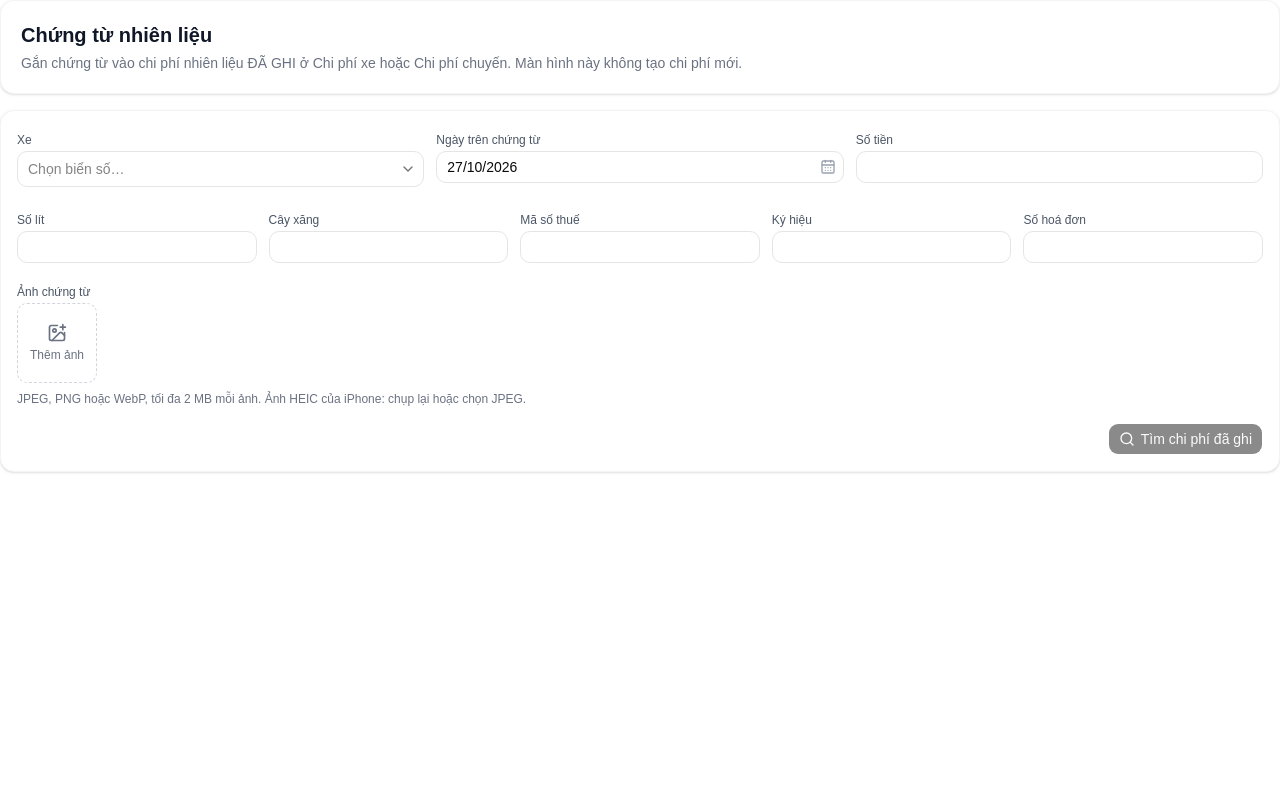
it: FuelReceiptPage › will not attach to a withdrawn cost, or to a fill whose own receipt says otherwise
Press the mouse on the dropdown labelled "Xe" at (221, 169), box left=17, top=151, right=424, bottom=187
Press the mouse on the dropdown labelled "Xe" at (221, 169), box left=17, top=151, right=424, bottom=187
Type "51D" into the dropdown labelled "Xe".
click(221, 169); type("51D")  # box left=17, top=151, right=424, bottom=187
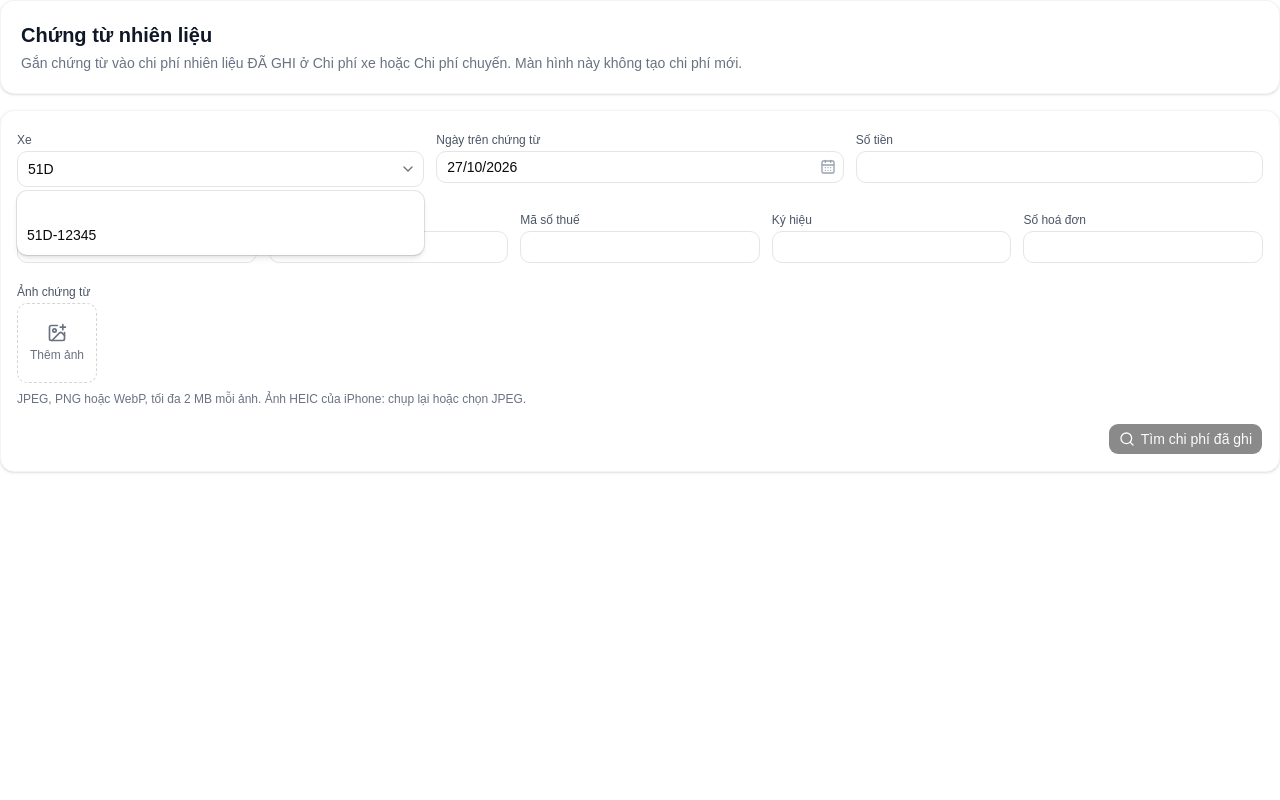
Click the option "51D-12345".
click(62, 235)  # box left=27, top=227, right=96, bottom=243
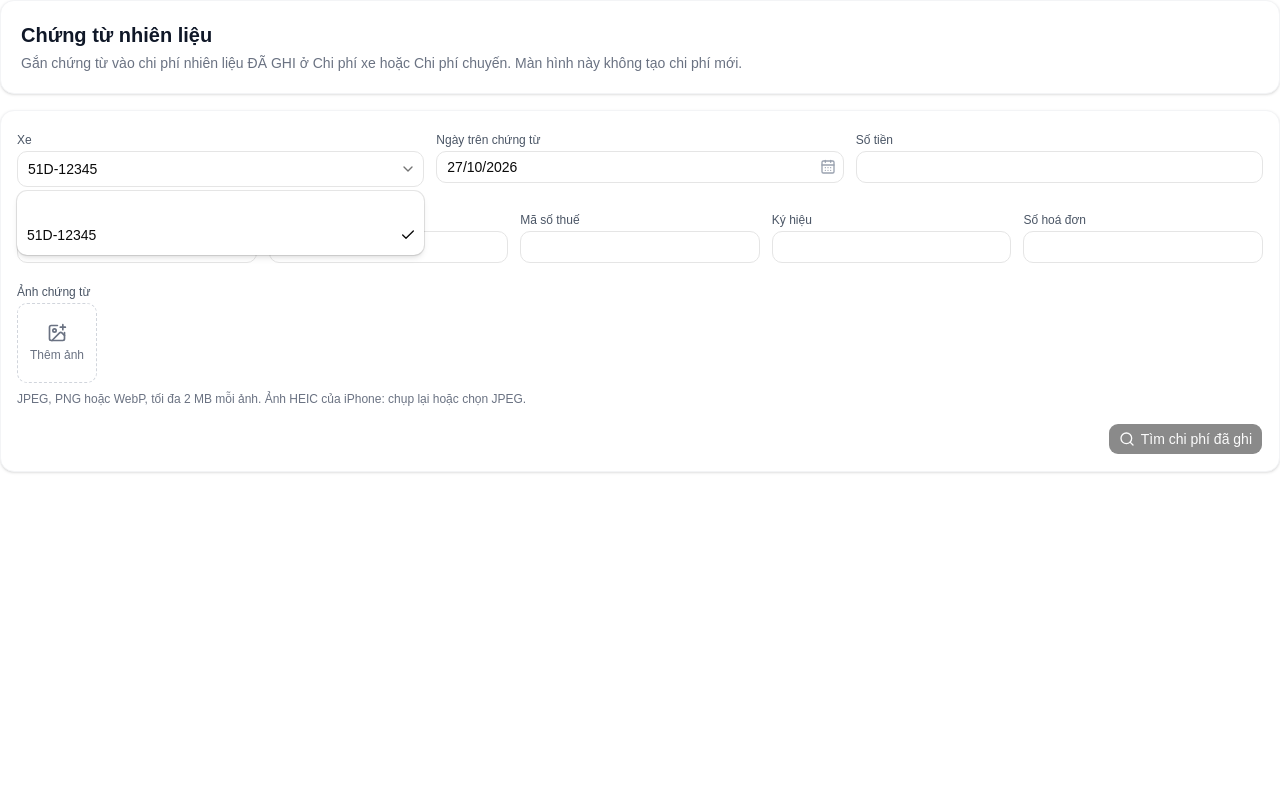
Type "772460" into the field labelled "Số tiền".
click(1059, 167); type("772460")  # box left=856, top=151, right=1263, bottom=183
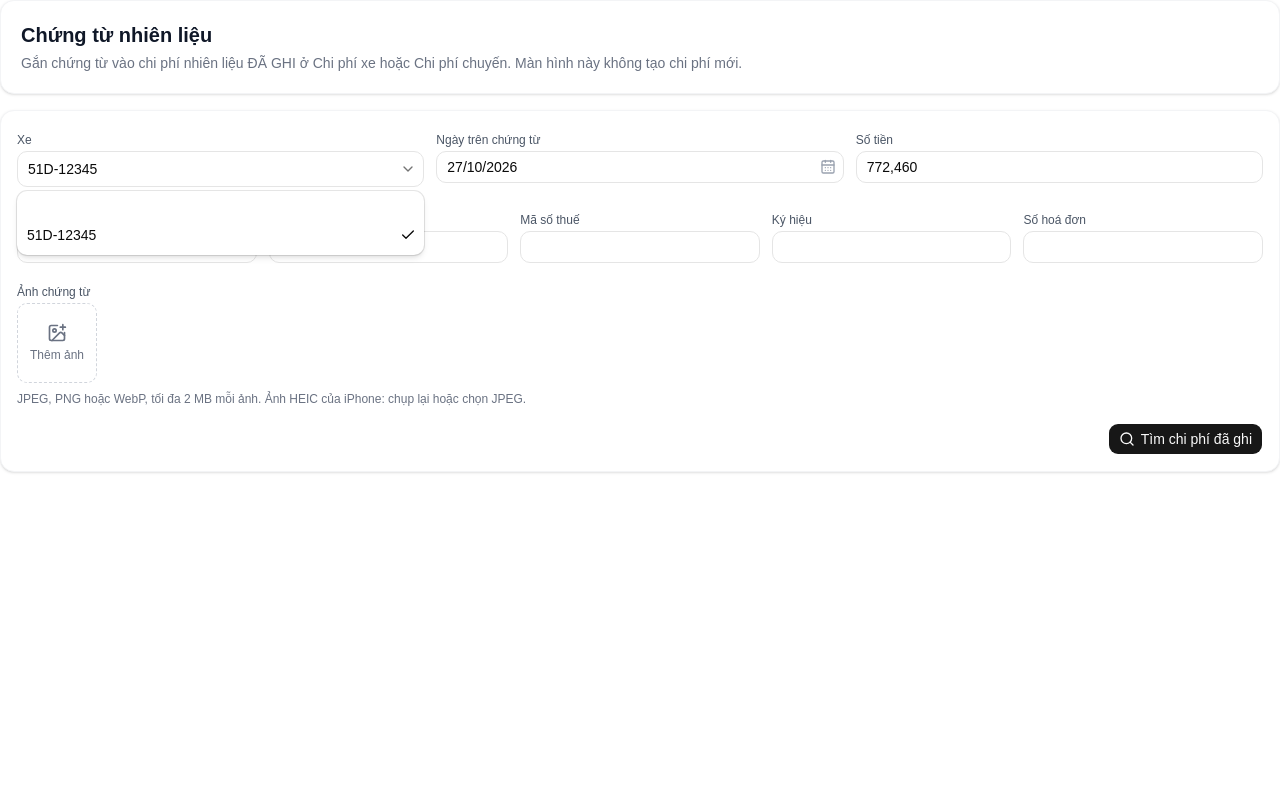
Type " 0001234 " into the field labelled "Số hoá đơn".
click(1143, 247); type(" 0001234 ")  # box left=1023, top=231, right=1263, bottom=263
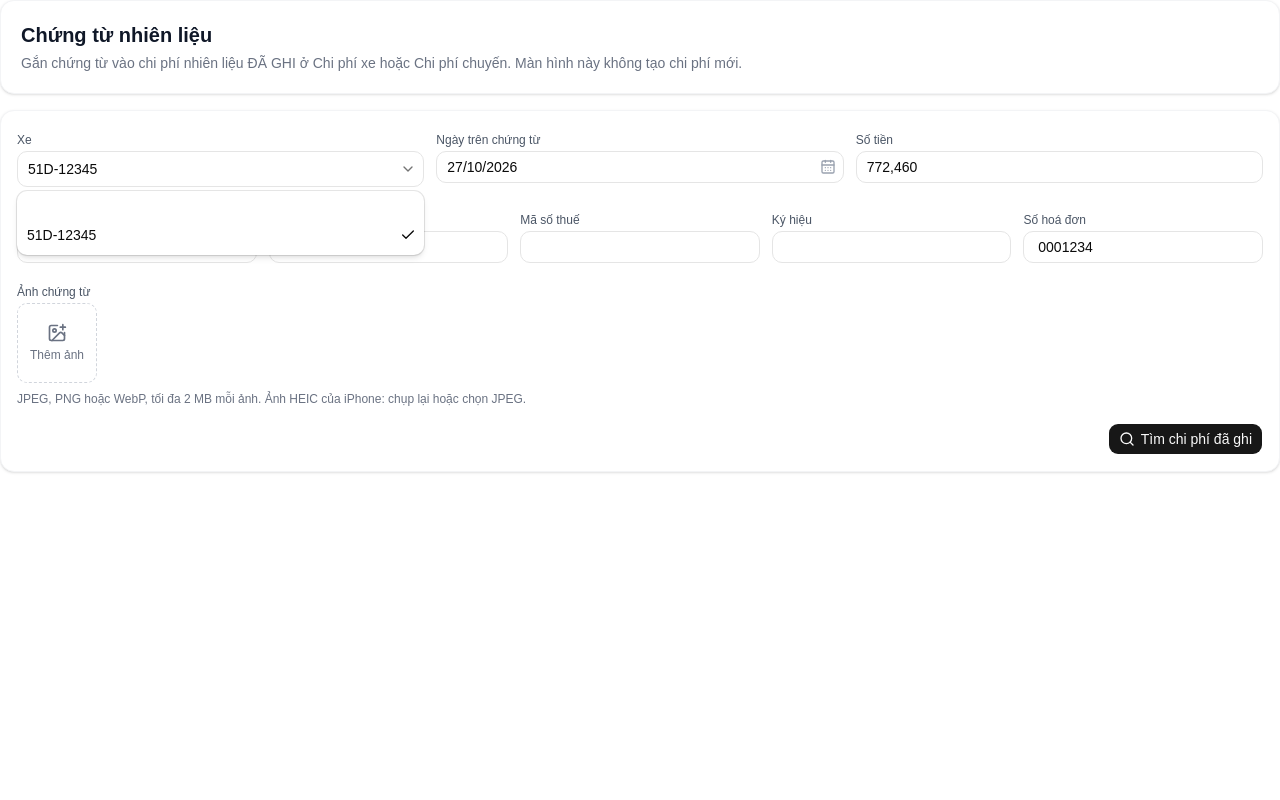
Click the button "Tìm chi phí đã ghi".
click(1185, 439)  # box left=1108, top=423, right=1263, bottom=455
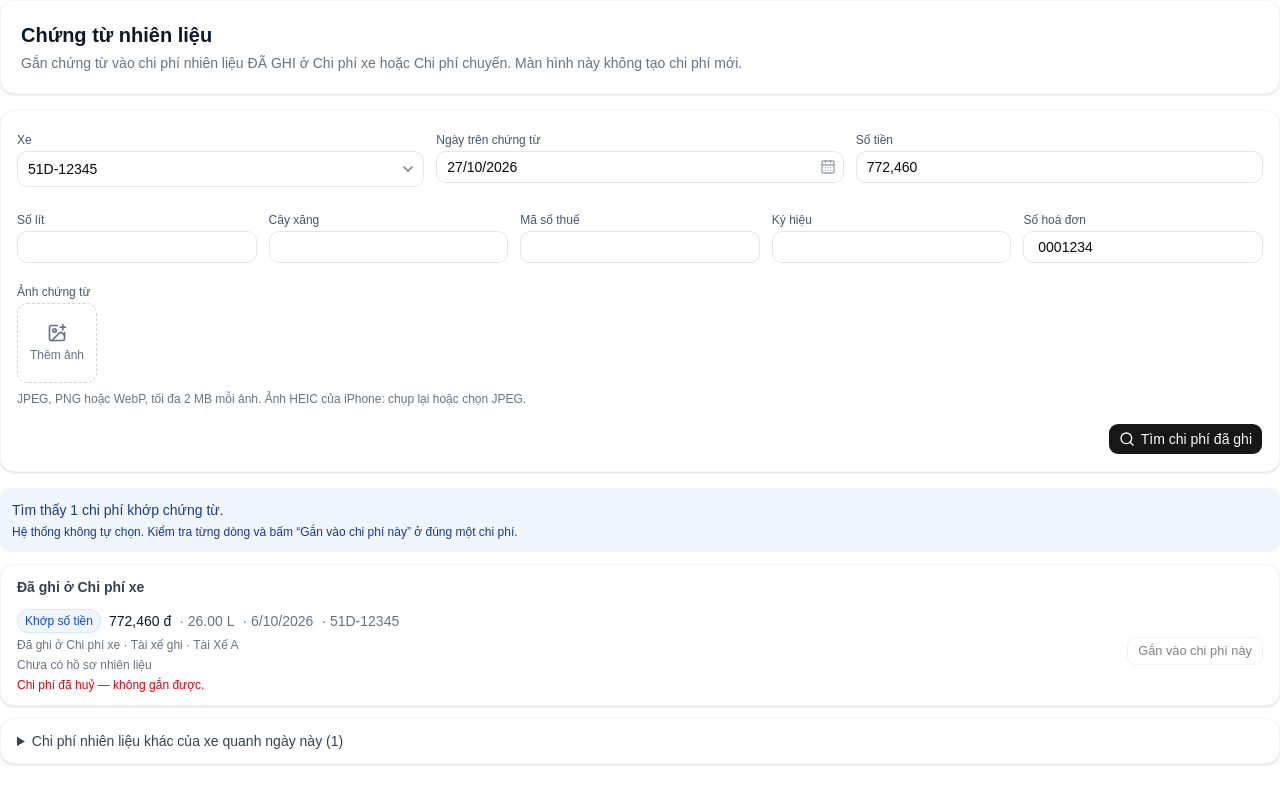
Expected: the button "Gắn vào chi phí này" is disabled, left=1127, top=637, right=1263, bottom=665
Expected: the text "Chi phí đã huỷ — không gắn được." is shown, left=17, top=678, right=204, bottom=692
